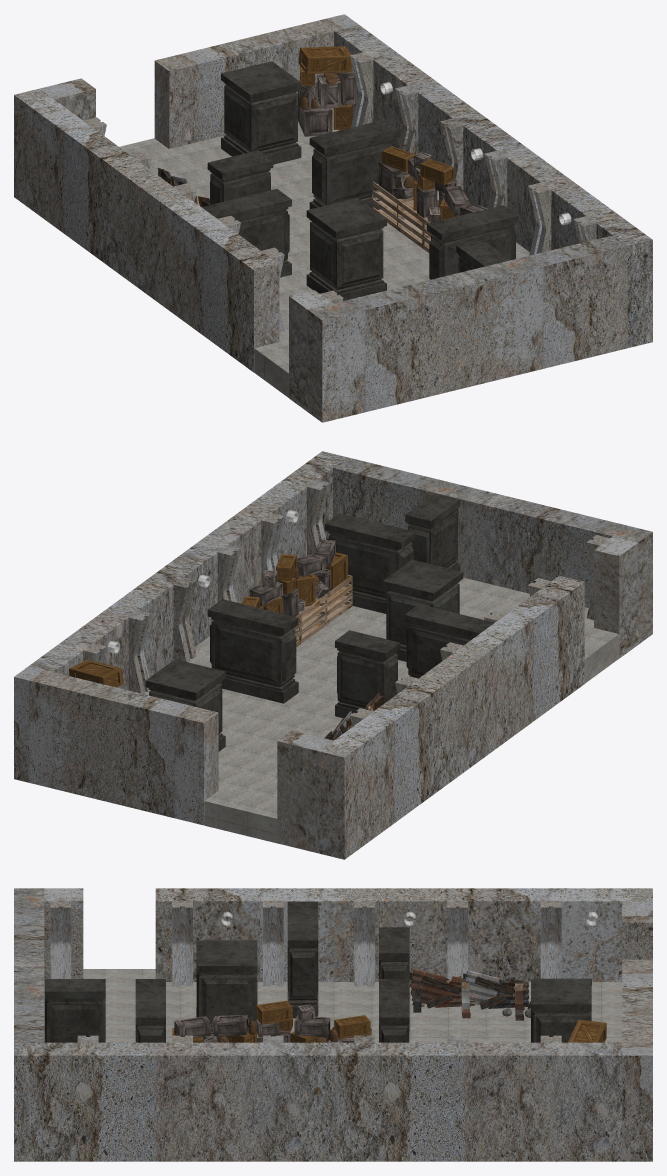
Rendered from Shore.fbx.
The picture shows the model from 3 angles, top to bottom: view 1: azimuth 30°, elevation 25°; view 2: azimuth 150°, elevation 25°; view 3: azimuth 270°, elevation 25°; orthographic projection. The views are drawn at different scales.
Parts seen in each view (by area): view 1: pCube119, pCube120, pCube118, pCube117, Floor2, bigBarePillar13, bigBarePillar11, bigBarePillar18, bigBarePillar17, bigBarePillar14, bigBarePillar15, shelf10 (+10 smaller); view 2: pCube120, pCube117, pCube119, Floor2, pCube118, bigBarePillar18, bigBarePillar17, bigBarePillar15, bigBarePillar13, bigBarePillar14, bigBarePillar16, bigBarePillar11 (+7 smaller); view 3: pCube118, pCube120, Floor2, pCube117, bigBarePillar13, pCube119, bigBarePillar16, bigBarePillar14, bigBarePillar11, bigBarePillar18, bigBarePillar17, pCube34 (+16 smaller).
Part boxes in pixels (x1,y1,x2,y2): pCube119: [307, 235, 627, 422]; pCube120: [14, 88, 332, 411]; pCube118: [334, 25, 652, 347]; pCube117: [40, 14, 358, 148]; Floor2: [119, 109, 529, 397]; bigBarePillar13: [306, 198, 386, 300]; bigBarePillar11: [221, 61, 301, 164]; bigBarePillar18: [309, 119, 400, 209]; bigBarePillar17: [427, 205, 518, 279]; bigBarePillar14: [201, 189, 291, 277]; bigBarePillar15: [207, 150, 273, 204]; shelf10: [371, 181, 427, 248]; pCube120: [319, 536, 638, 859]; pCube117: [14, 666, 333, 853]; pCube119: [333, 457, 652, 644]; Floor2: [145, 577, 619, 843]; pCube118: [29, 451, 347, 690]; bigBarePillar18: [207, 599, 298, 703]; bigBarePillar17: [324, 513, 416, 613]; bigBarePillar15: [335, 630, 400, 718]; bigBarePillar13: [383, 559, 463, 661]; bigBarePillar14: [404, 604, 494, 678]; bigBarePillar16: [405, 493, 460, 570]; bigBarePillar11: [145, 659, 225, 751]; pCube118: [14, 1042, 622, 1161]; pCube120: [44, 888, 652, 981]; Floor2: [44, 969, 622, 1042]; pCube117: [622, 901, 652, 1161]; bigBarePillar13: [196, 940, 257, 1042]; pCube119: [14, 888, 44, 1042]; bigBarePillar16: [44, 979, 105, 1042]; bigBarePillar14: [287, 901, 318, 1018]; bigBarePillar11: [530, 978, 591, 1042]; bigBarePillar18: [379, 979, 409, 1042]; bigBarePillar17: [135, 979, 165, 1042]; pCube34: [172, 900, 192, 986].
Bounding box in the file's own units: 13 × 3.99 × 21.
Materials: 12 (10 with a texture image).
